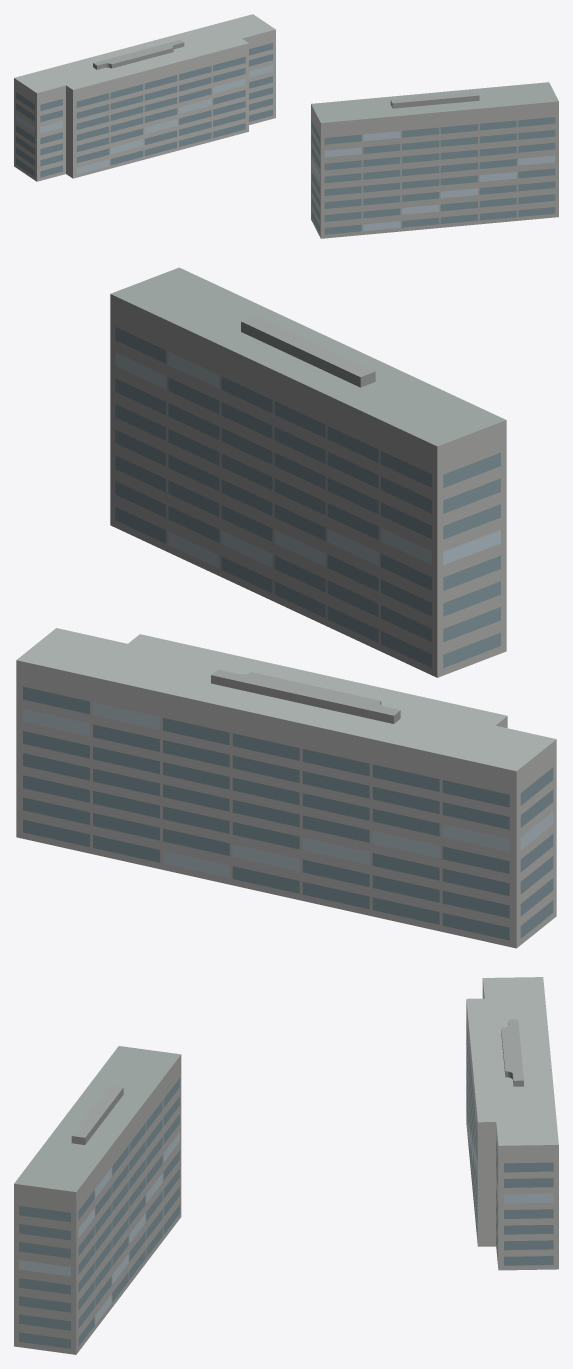
The model's file is apt-a13406002.glb.
The picture shows the model from 3 angles, top to bottom: view 1: azimuth 30°, elevation 25°; view 2: azimuth 150°, elevation 25°; view 3: azimuth 270°, elevation 25°; orthographic projection. The views are drawn at different scales.
Parts seen in each view (by area): view 1: apt-a13406002; view 2: apt-a13406002; view 3: apt-a13406002.
Part boxes in pixels (bbox=[...]): apt-a13406002: bbox=[14, 14, 558, 238]; apt-a13406002: bbox=[16, 267, 556, 948]; apt-a13406002: bbox=[14, 977, 558, 1354].
Size of the model in its own units: 91.65 by 28.69 by 83.31.
